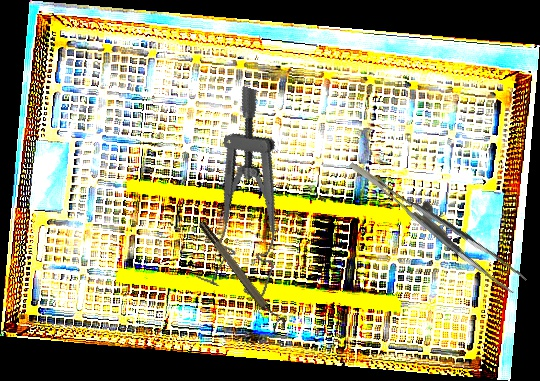Fixation Ring: (196, 215, 289, 335)
Speculum: (180, 85, 324, 301)
Tissue Forceps: (348, 135, 528, 310)
